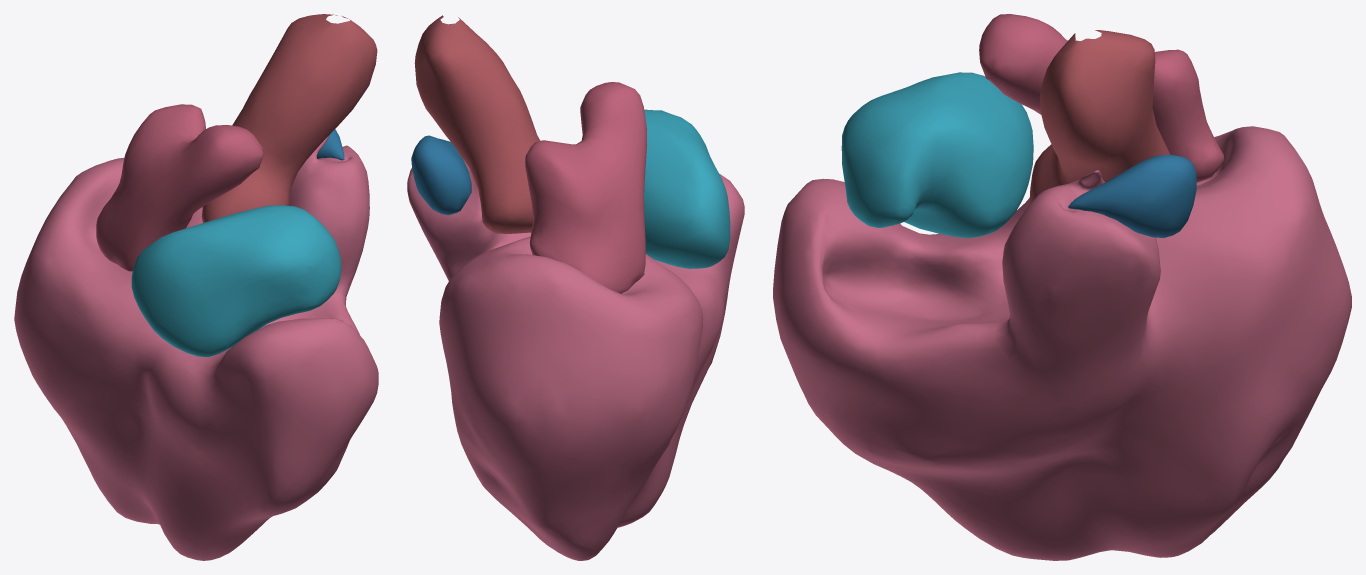
Rendered from frame_52.glb.
3 renders of one model, left to right at view 1: azimuth 30°, elevation 25°; view 2: azimuth 150°, elevation 25°; view 3: azimuth 270°, elevation 25°, orthographic. The views are drawn at different scales.
Visible parts, largest first — view 1: Renderer Node; view 2: Renderer Node; view 3: Renderer Node.
Boxes of the visible parts, x1=… form: Renderer Node: x1=14, y1=14, x2=378, y2=560; Renderer Node: x1=407, y1=15, x2=744, y2=560; Renderer Node: x1=773, y1=14, x2=1351, y2=560.
Bounding box in the file's own units: 102 × 157 × 133.
